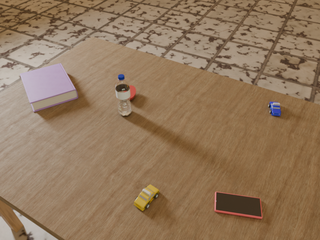book: (20, 63, 78, 112)
bottle: (115, 74, 132, 116)
phone: (215, 192, 262, 219)
toy_car: (134, 185, 159, 211), (268, 102, 281, 116)
